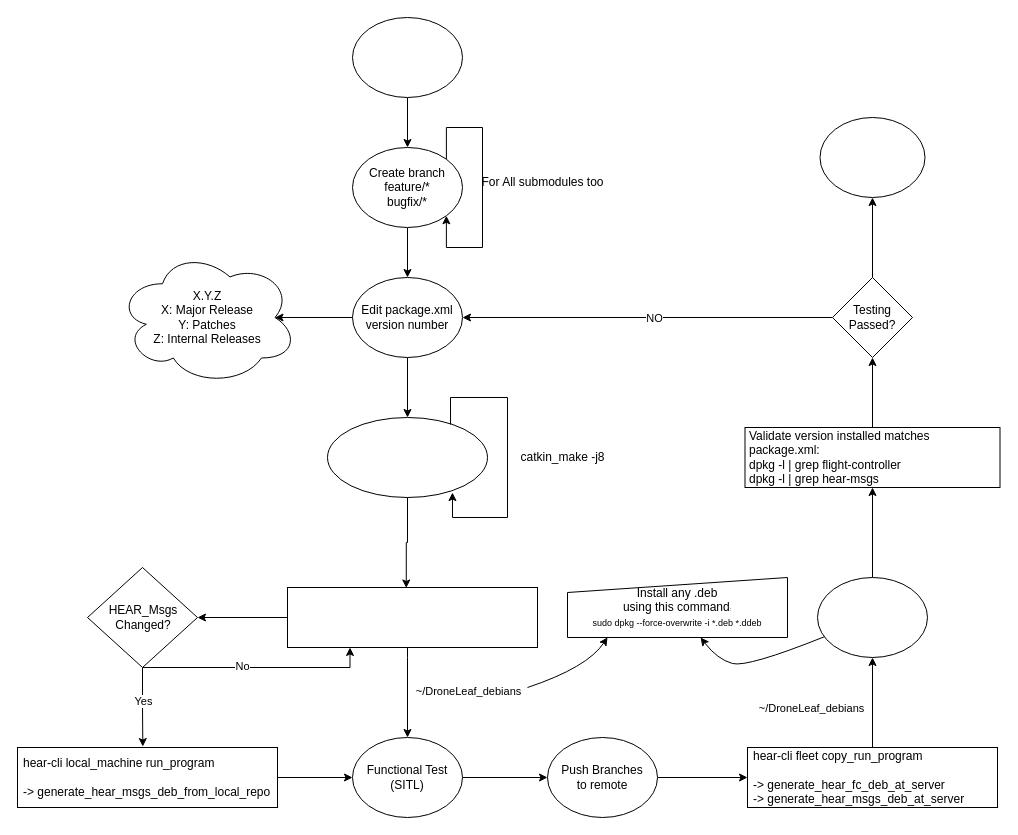
The diagram is 1018 pixels wide and 835 high, and some of its shapes have lost their labels. The centre of each missing label's shape, as x and y in pixels:
Clone Repo: the point at 407,57
Copy .deb packages to target: the point at 872,617
hear-cli local_machine run_program -> generate_hear_fc_deb_from_local_repo: the point at 412,617
Make a new software-stack release: the point at 872,157
Write code, debug, iterate: the point at 407,457
